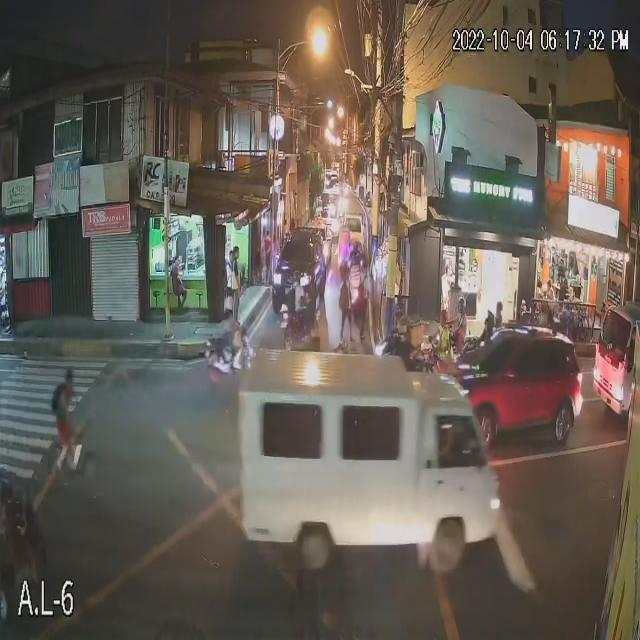helmet: (456, 298, 468, 310)
motorcycle: (375, 339, 443, 369), (197, 343, 264, 370), (278, 313, 324, 345)
rider: (454, 316, 465, 351)
